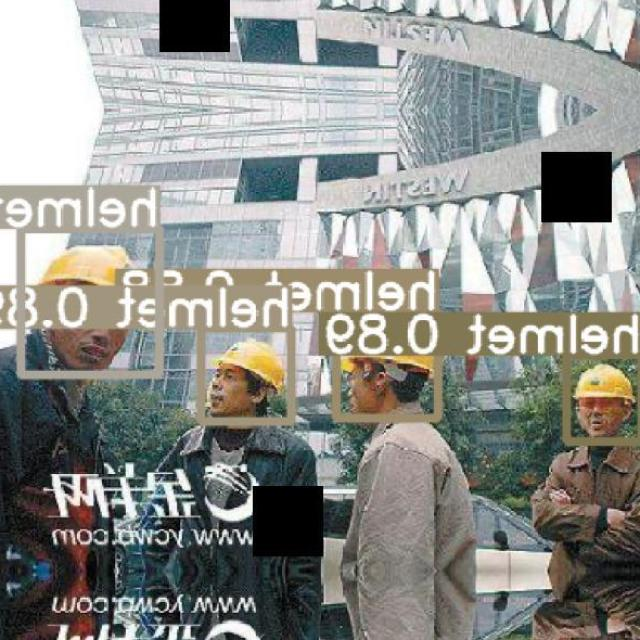helmet: (212, 338, 286, 394), (39, 244, 132, 286), (574, 362, 637, 402)
